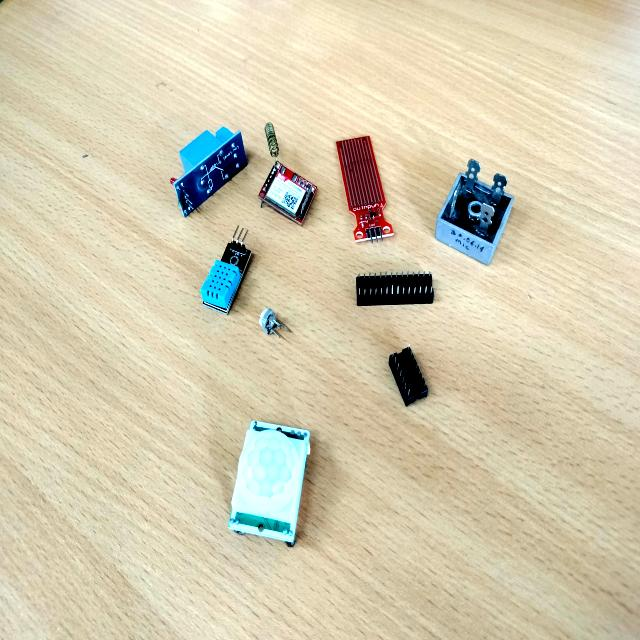Bridge-Rectifier: (426, 157, 522, 268)
GSM-Module: (251, 108, 323, 233)
Humidity-Sensor: (196, 218, 258, 316)
IC-Base-14-Pin: (382, 334, 435, 419)
IC-Base-28-Pin: (346, 258, 438, 322)
Motion-Sensor: (220, 403, 316, 555)
Relay-Module: (162, 105, 249, 227)
Trimmer-Potentiometer: (250, 302, 295, 347)
Water-Sensor: (332, 121, 400, 251)
